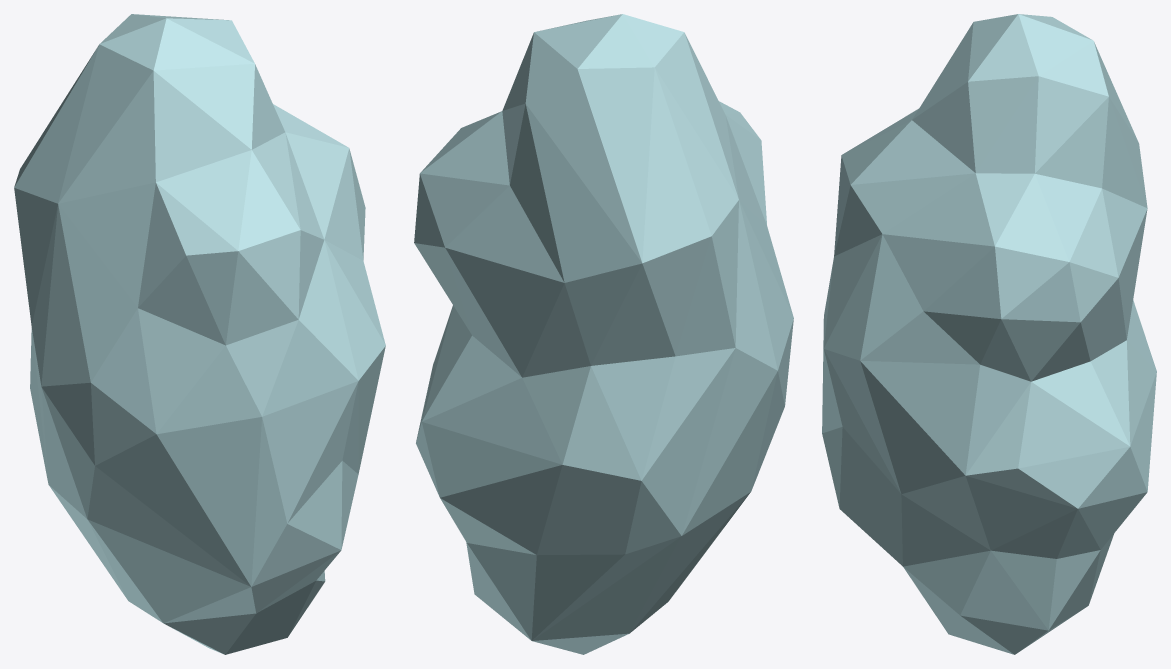
Rendered from cloud.glb.
3 views of the same model, side by side, from view 1: azimuth 30°, elevation 25°; view 2: azimuth 150°, elevation 25°; view 3: azimuth 270°, elevation 25° (orthographic). The views are drawn at different scales.
Visible parts, largest first — view 1: Cloud; view 2: Cloud; view 3: Cloud.
Boxes of the visible parts, <box> form: Cloud: <box>14,14,385,654</box>; Cloud: <box>414,14,793,654</box>; Cloud: <box>822,14,1156,654</box>.
Size of the model in its own units: 1.24 by 2.3 by 1.16.
